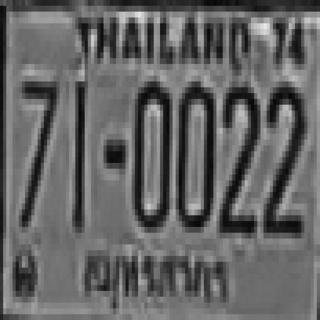N00: (176, 76, 213, 227), (132, 76, 169, 227)
N01: (72, 79, 85, 230), (72, 82, 85, 227)
N02: (216, 79, 257, 230), (262, 79, 303, 230)
N07: (19, 78, 57, 224)
P58: (79, 243, 232, 315)
